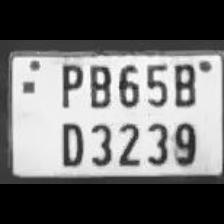2: (112, 118, 142, 168)
3: (84, 118, 114, 166), (142, 116, 168, 166)
5: (143, 61, 169, 107)
6: (114, 60, 140, 108)
9: (169, 116, 199, 164)
B: (83, 60, 113, 110), (168, 60, 198, 108)
D: (54, 116, 84, 166)
P: (54, 59, 84, 109)
